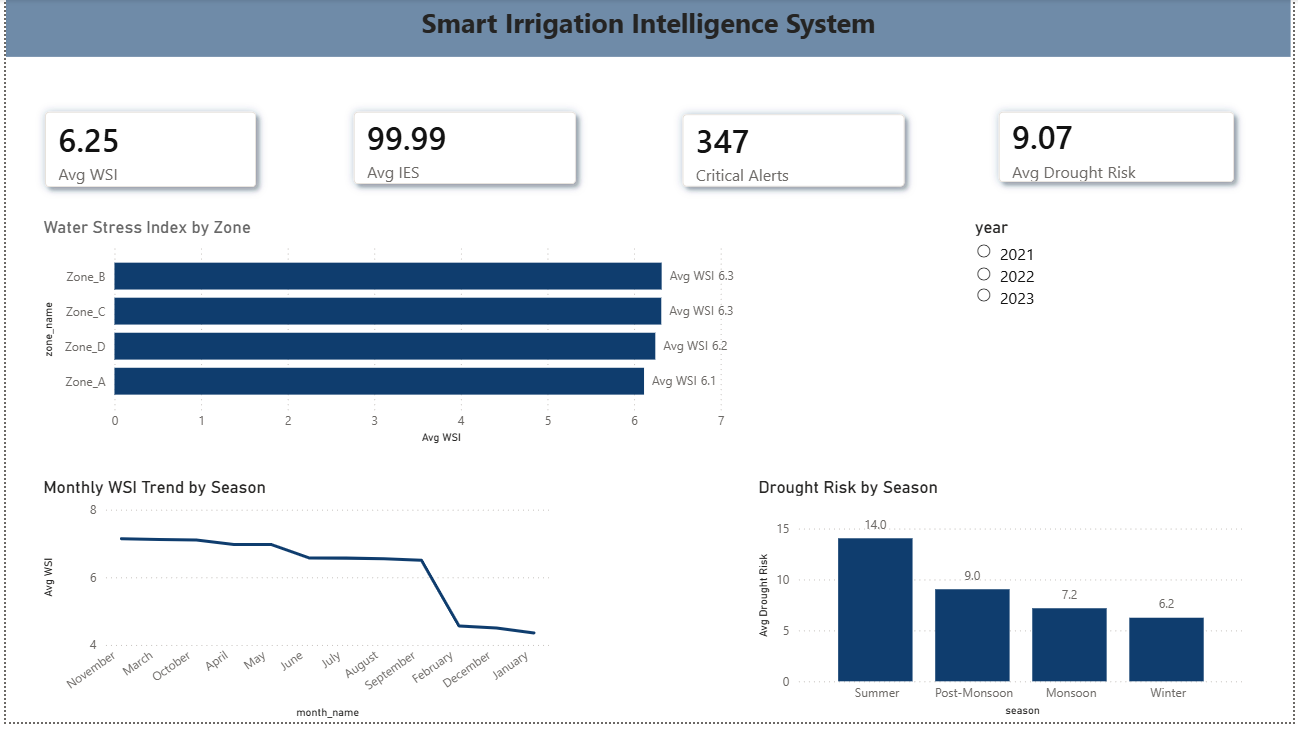

What the dashboard file says about the page in this screenshot:
{"tool":"powerbi","page":{"name":"Executive Overview","canvas":[1280,720],"ordinal":0},"visuals":[{"type":"textbox","box":[10,0,280,280],"z":0},{"type":"textbox","box":[0,0,1278.8,57.2],"z":1000},{"type":"cardVisual","fields":{"Data":["fact_irrigation.Avg WSI"]},"box":[10,83.3,268.7,133.1],"z":2000},{"type":"cardVisual","fields":{"Data":["fact_irrigation.Avg IES"]},"box":[317.2,83.3,279.9,130.6],"z":3000},{"type":"cardVisual","fields":{"Data":["fact_irrigation.Avg Drought Risk"]},"box":[959.1,83.3,292.3,128.1],"z":4000},{"type":"cardVisual","fields":{"Data":["fact_irrigation.Critical Alerts"]},"box":[644.4,85.8,279.9,130.6],"z":5000},{"type":"clusteredBarChart","title":"Water Stress Index by Zone","fields":{"Y":["fact_irrigation.Avg WSI"],"Category":["dim_zone.zone_name"]},"box":[32.3,216.4,735.2,231.4],"z":6000},{"type":"lineChart","title":"Monthly WSI Trend by Season","fields":{"Y":["fact_irrigation.Avg WSI"],"Category":["dim_date.month_name"]},"box":[32.9,474.8,513.2,245.6],"z":7000},{"type":"clusteredColumnChart","title":"Drought Risk by Season","fields":{"Category":["dim_date.season"],"Y":["fact_irrigation.Avg Drought Risk"]},"box":[743.9,475.2,495.1,243.8],"z":8000},{"type":"listSlicer","fields":{"Values":["dim_date.year"]},"box":[959.1,216.4,306,209],"z":9000}]}

Visuals, with their boxes in screenshot pixels (x1, y1, x2, y2), scaled from the page's 1280x720 canvas onto the 1298x730 screenshot:
textbox: (10, 0, 294, 284)
textbox: (0, 0, 1297, 58)
cardVisual - fact_irrigation.Avg WSI: (10, 84, 283, 219)
cardVisual - fact_irrigation.Avg IES: (322, 84, 605, 217)
cardVisual - fact_irrigation.Avg Drought Risk: (973, 84, 1269, 214)
cardVisual - fact_irrigation.Critical Alerts: (653, 87, 937, 219)
"Water Stress Index by Zone" clusteredBarChart: (33, 219, 778, 454)
"Monthly WSI Trend by Season" lineChart: (33, 481, 554, 729)
"Drought Risk by Season" clusteredColumnChart: (754, 482, 1256, 729)
listSlicer - dim_date.year: (973, 219, 1283, 431)
